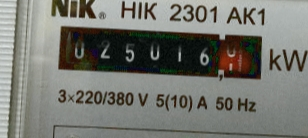0: (146, 38, 162, 62), (70, 38, 84, 61), (223, 38, 236, 59)
1: (171, 39, 184, 64), (224, 61, 232, 72)
2: (96, 37, 111, 60)
5: (121, 41, 133, 63)
6: (195, 43, 209, 69)
screen: (46, 15, 271, 89)
